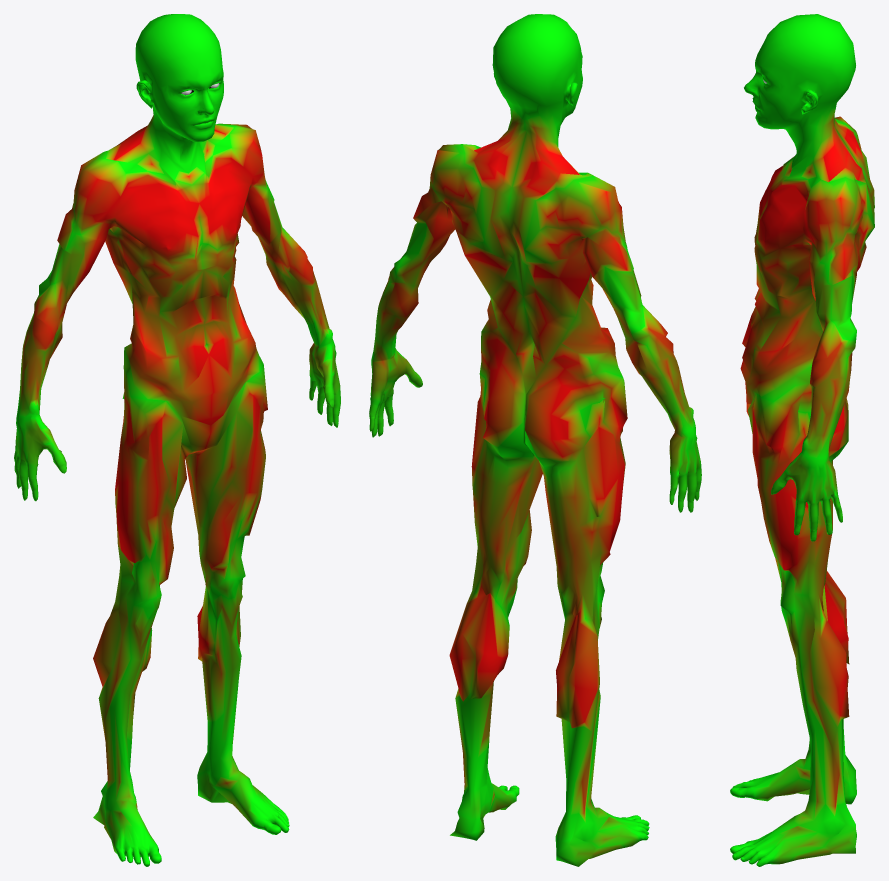
Rendered from Reom.fbx.
3 renders of one model, left to right at view 1: azimuth 30°, elevation 25°; view 2: azimuth 150°, elevation 25°; view 3: azimuth 270°, elevation 25°, orthographic.
Visible parts, largest first — view 1: cm_reom; view 2: cm_reom; view 3: cm_reom.
Boxes of the visible parts, <box> form: cm_reom: <box>14,14,340,866</box>; cm_reom: <box>369,14,701,866</box>; cm_reom: <box>730,14,874,866</box>.
Bounding box in the file's own units: 74.82 × 182 × 29.6.
